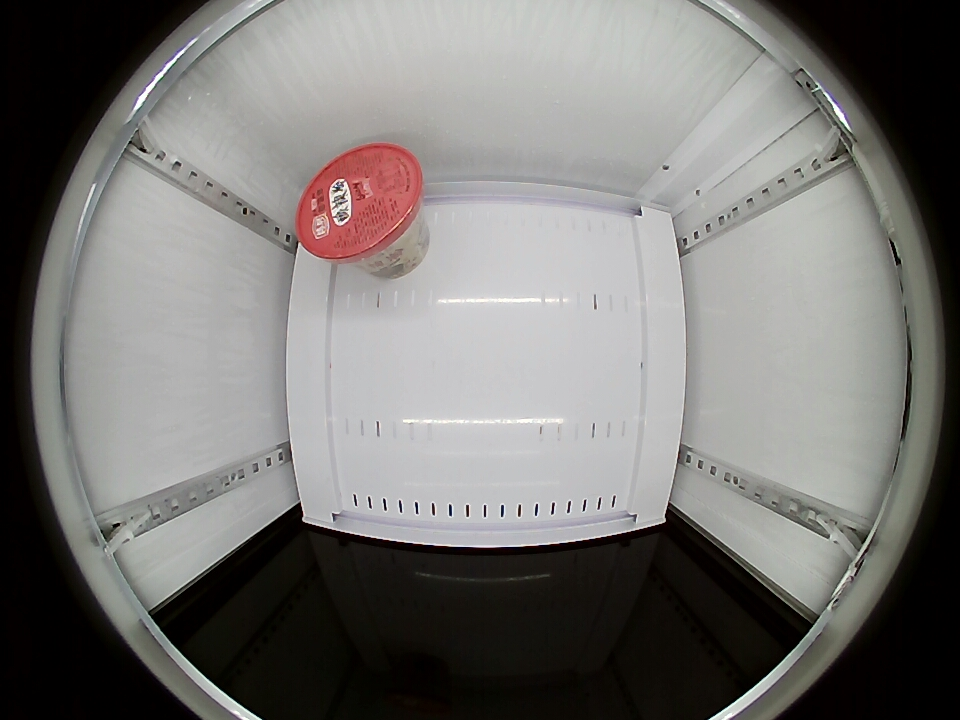suanlafen: (296, 144, 425, 268)
